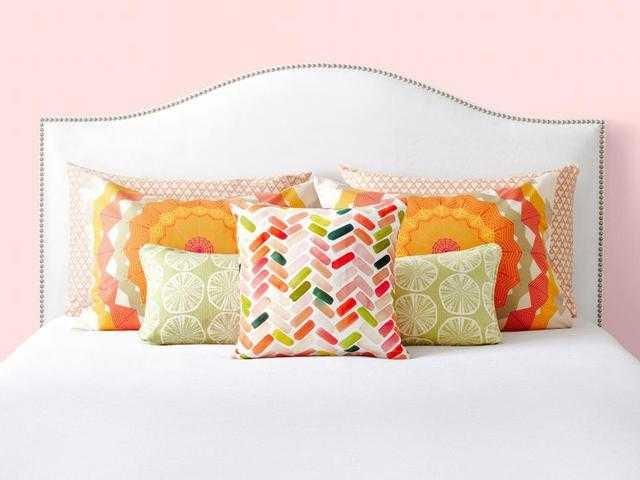pillow: (63, 161, 315, 331), (332, 162, 578, 330), (228, 193, 410, 358)
